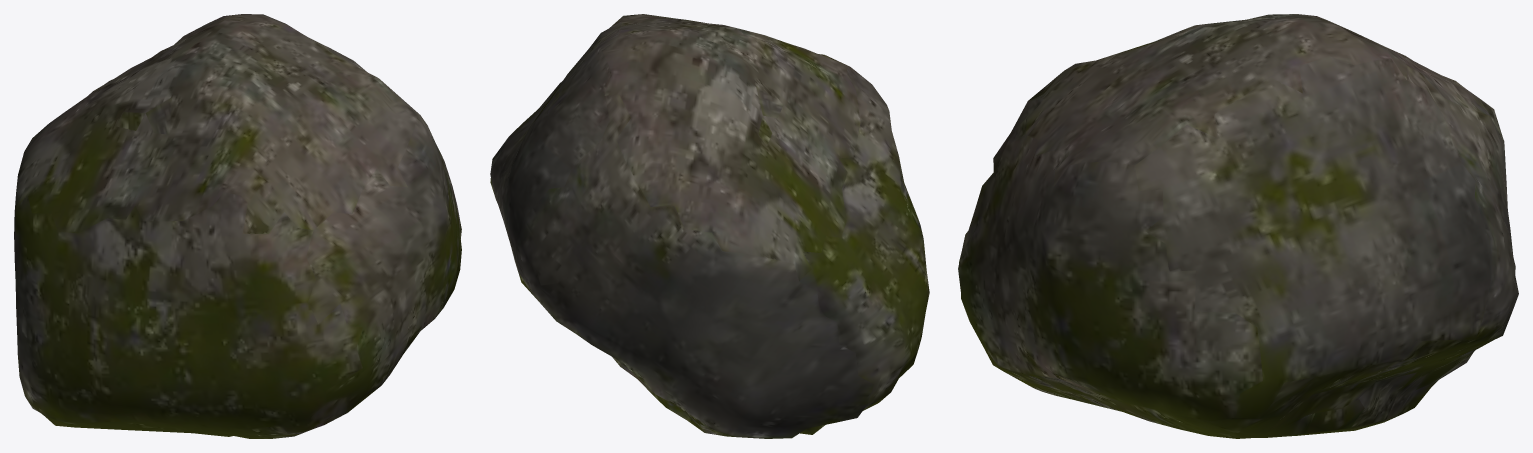
The model's file is rock3.glb.
The picture shows the model from 3 angles, left to right: view 1: azimuth 30°, elevation 25°; view 2: azimuth 150°, elevation 25°; view 3: azimuth 270°, elevation 25°; orthographic projection. The views are drawn at different scales.
Visible parts, largest first — view 1: A_Set.004; view 2: A_Set.004; view 3: A_Set.004.
Boxes of the visible parts, x1,y1,x2,y2 form: A_Set.004: [14, 14, 461, 438]; A_Set.004: [490, 14, 929, 438]; A_Set.004: [958, 14, 1518, 438].
Bounding box in the file's own units: 5.74 × 4.71 × 5.45.
1 material, 1 textured.
